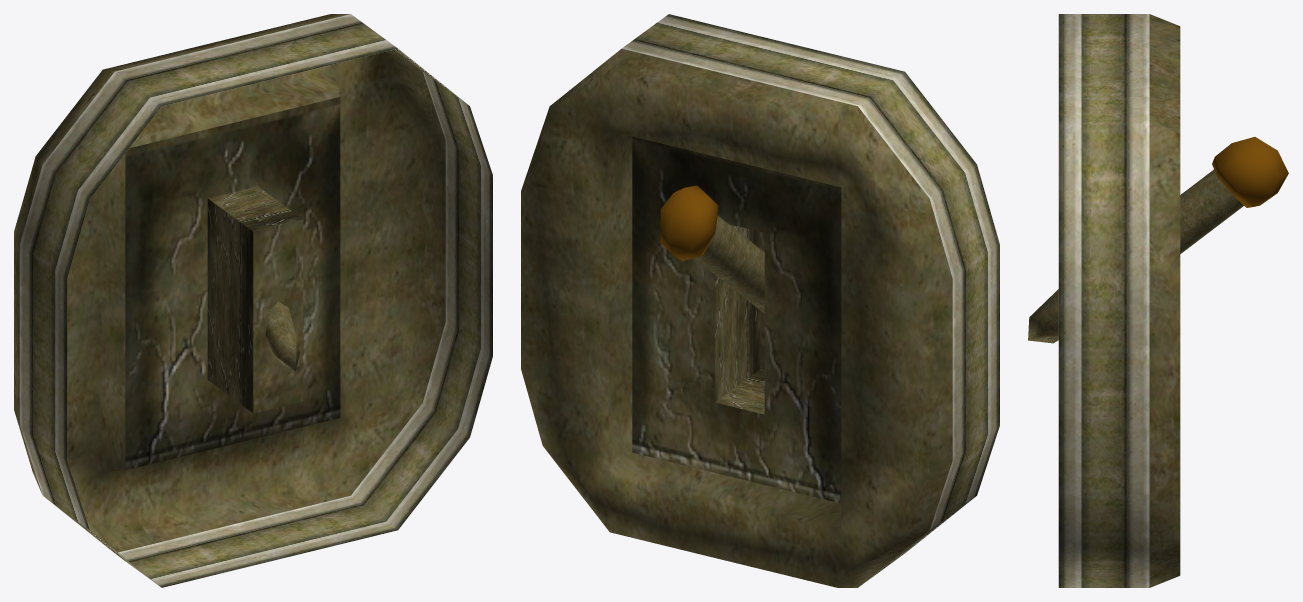
The model's file is INST_SM_SWITCH_UP.fbx.
3 renders of one model, left to right at view 1: azimuth 30°, elevation 25°; view 2: azimuth 150°, elevation 25°; view 3: azimuth 270°, elevation 25°, orthographic. The views are drawn at different scales.
Parts seen in each view (by area): view 1: INST_SM_SWITCH_UP; view 2: INST_SM_SWITCH_UP; view 3: INST_SM_SWITCH_UP.
Boxes of the visible parts, x1=… form: INST_SM_SWITCH_UP: x1=14, y1=14, x2=492, y2=587; INST_SM_SWITCH_UP: x1=521, y1=14, x2=999, y2=587; INST_SM_SWITCH_UP: x1=1028, y1=14, x2=1288, y2=587.
Size of the model in its own units: 5656 by 6114 by 3122.
4 materials, 4 textured.
